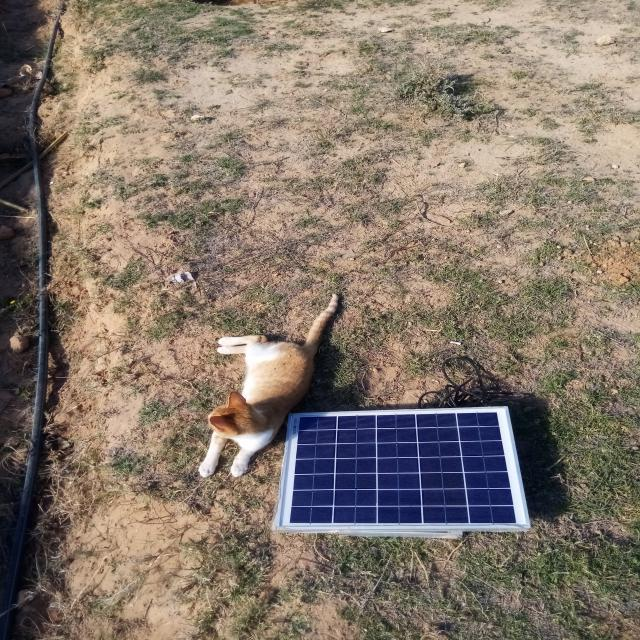no faulty: (275, 407, 529, 530)
